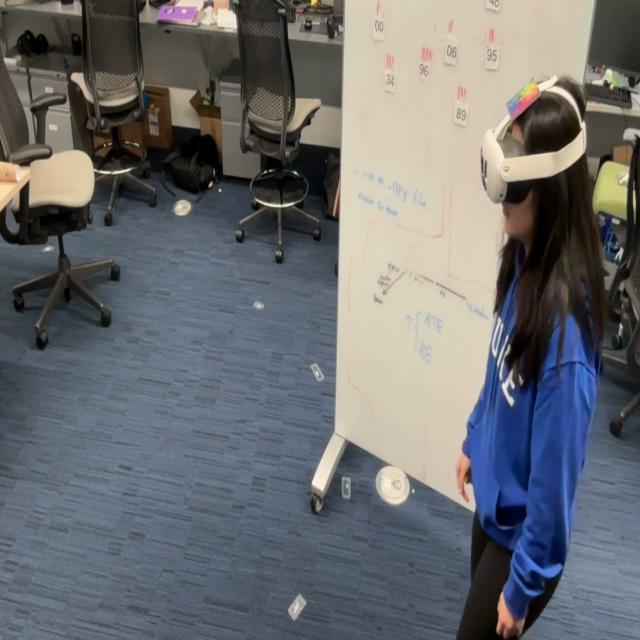Headset: (480, 81, 587, 205)
Marker: (503, 76, 542, 116)
